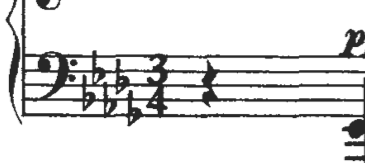bass_clef: (34, 44, 78, 106)
flat: (122, 85, 145, 132), (98, 80, 122, 124), (112, 52, 134, 97), (88, 45, 109, 89), (78, 68, 97, 115)
